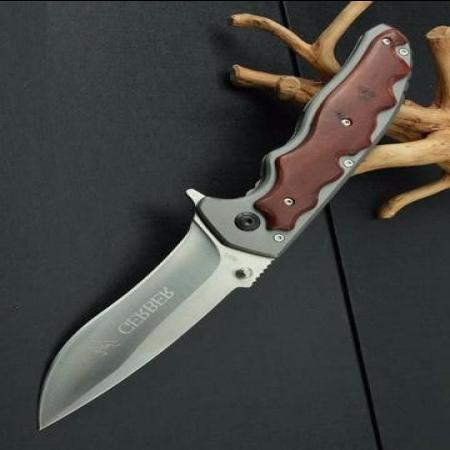long weapon: (28, 186, 302, 436)
